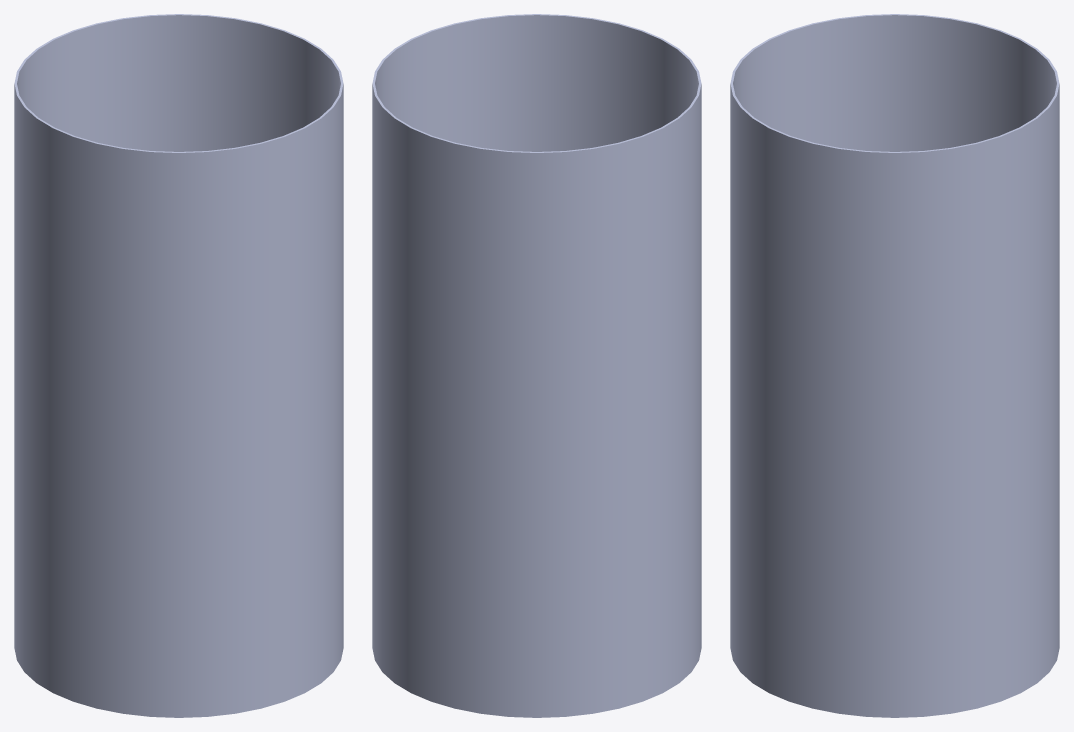
Rendered from ur3e_scaled_52.obj.
3 renders of one model, left to right at view 1: azimuth 30°, elevation 25°; view 2: azimuth 150°, elevation 25°; view 3: azimuth 270°, elevation 25°, orthographic.
Size of the model in its own units: 0.0132 by 0.025 by 0.0132.
